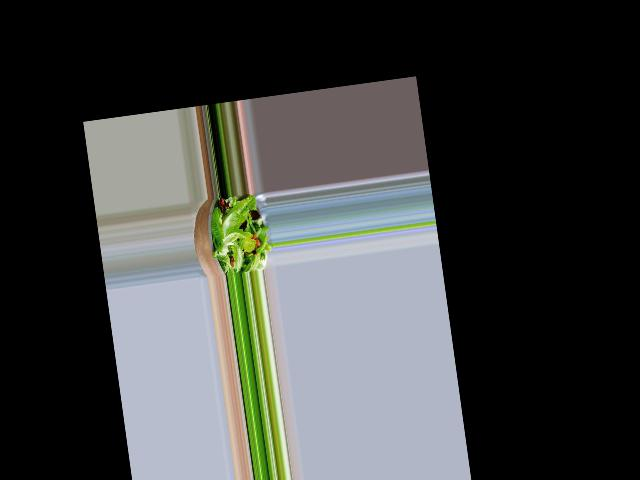lettuce: (207, 199, 270, 272)
